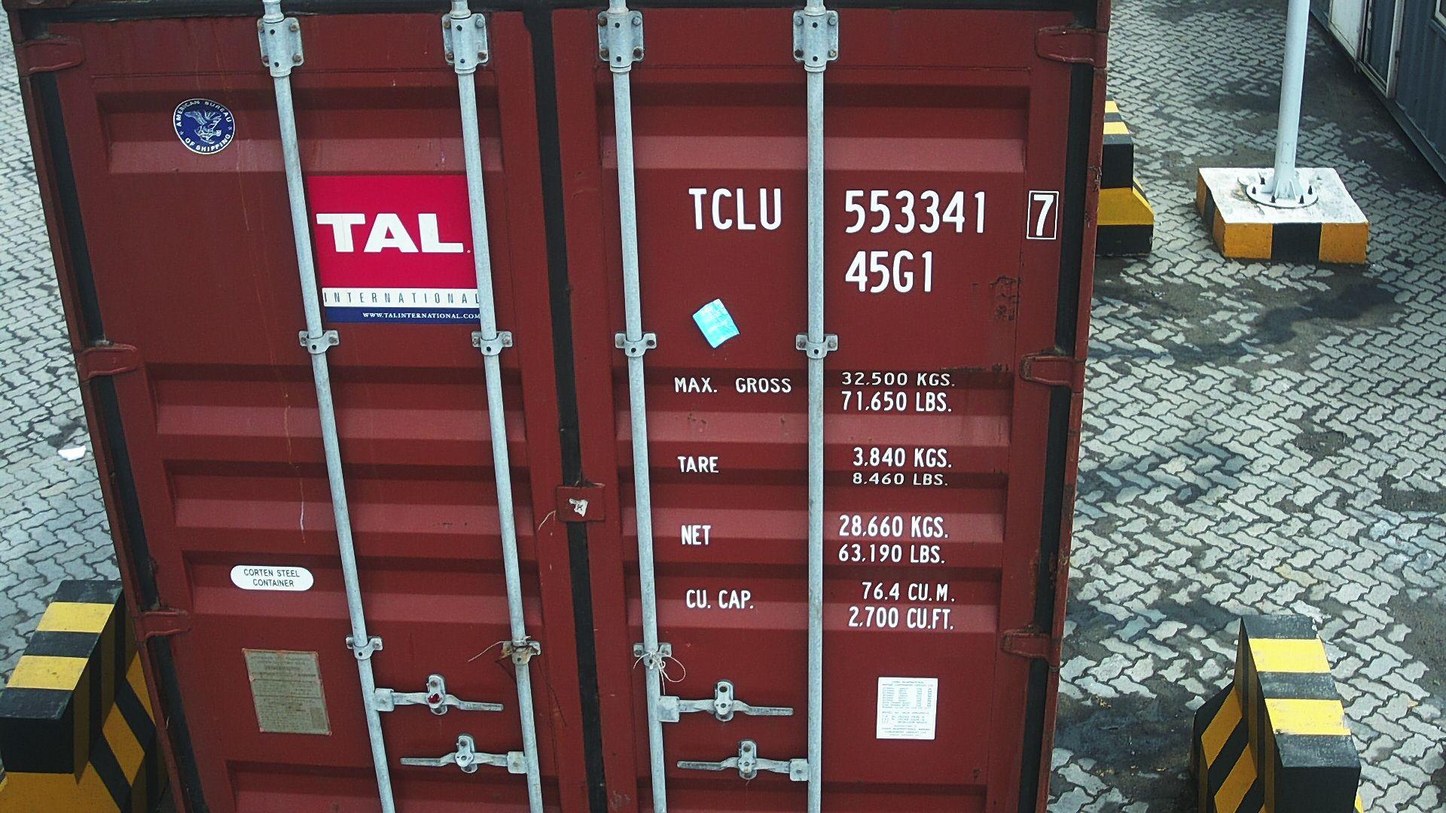container-numbers: (685, 183, 1063, 243), (841, 247, 939, 297)
